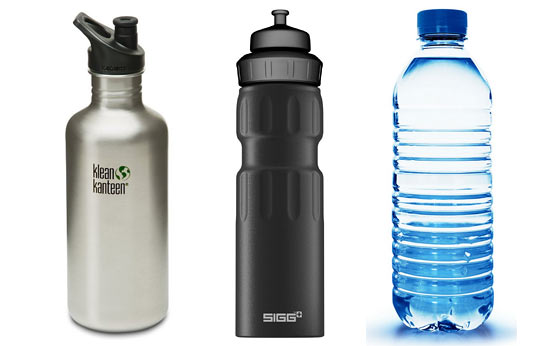Rec_Plastic: (54, 3, 173, 332), (382, 8, 496, 332), (224, 7, 330, 334)
